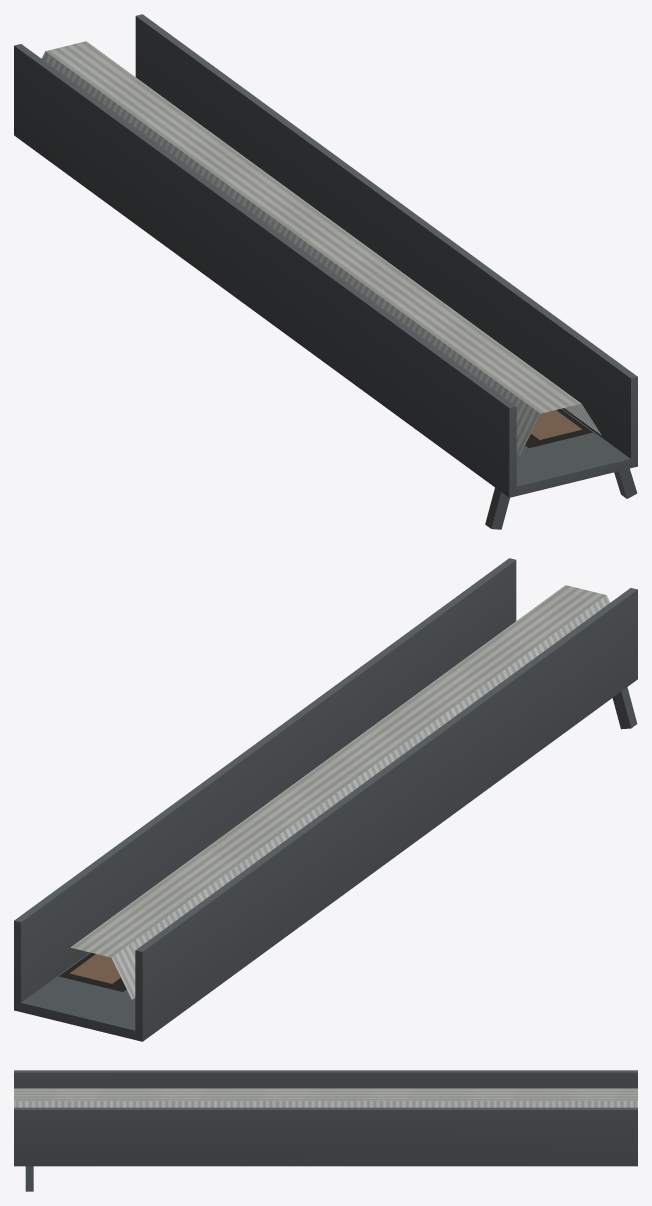
The model's file is conveyor_lod1.glb.
3 renders of one model, top to bottom at view 1: azimuth 30°, elevation 25°; view 2: azimuth 150°, elevation 25°; view 3: azimuth 270°, elevation 25°, orthographic. The views are drawn at different scales.
Visible parts, largest first — view 1: truss, trestle, ore; view 2: truss, ore; view 3: truss, trestle.
Part boxes in pixels (left/top/right/bottom): truss: left=14, top=14, right=637, bottom=497; trestle: left=485, top=468, right=637, bottom=529; ore: left=531, top=410, right=582, bottom=439; truss: left=14, top=558, right=637, bottom=1041; ore: left=69, top=954, right=120, bottom=983; truss: left=14, top=1070, right=637, bottom=1166; trestle: left=25, top=1166, right=33, bottom=1191.
Bounding box in the file's own units: 4.09 × 3.44 × 24.
4 materials, 1 textured.
